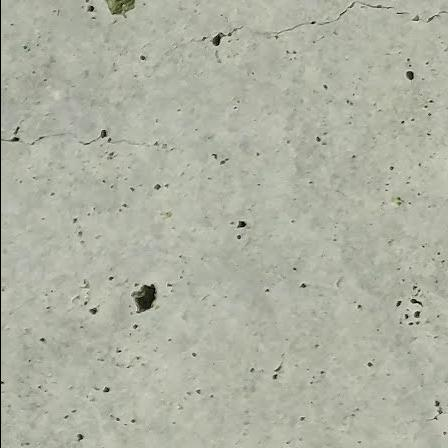crack: (0, 115, 189, 160), (134, 10, 247, 84), (243, 0, 448, 40)
spalling: (124, 278, 164, 316), (101, 0, 136, 16)
